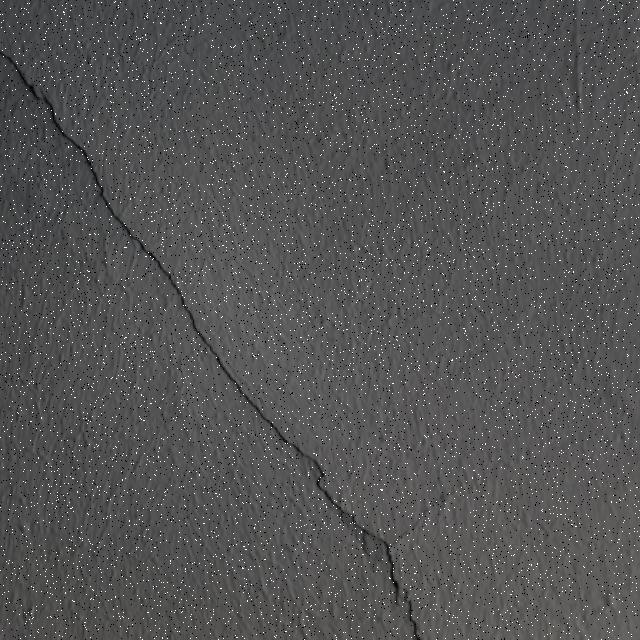severe crack: (308, 454, 425, 633), (152, 267, 217, 348), (568, 0, 584, 197), (374, 530, 402, 590), (405, 592, 425, 632)
